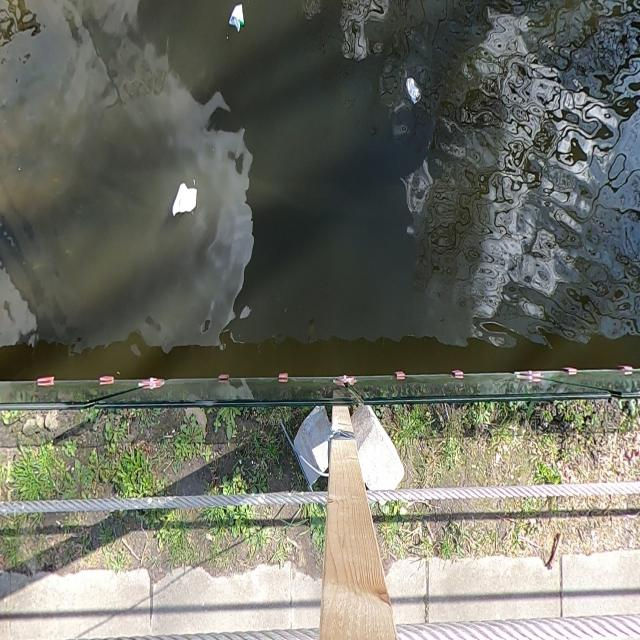Autre plastique: (167, 175, 199, 222)
Sac plastique: (403, 73, 425, 106)
